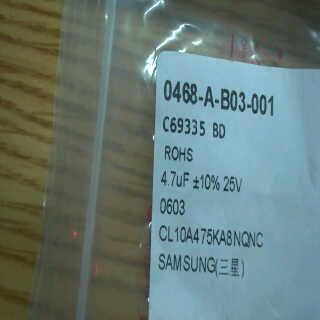4.7uF: (156, 167, 192, 190)
